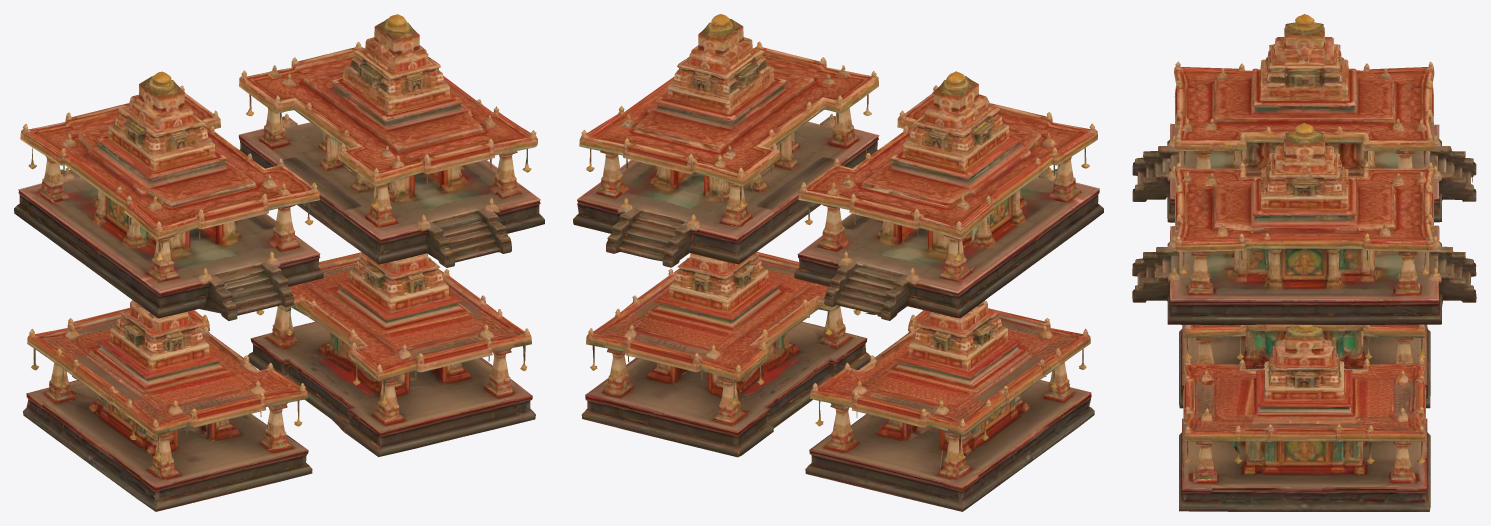
Rendered from temple.glb.
3 renders of one model, left to right at view 1: azimuth 30°, elevation 25°; view 2: azimuth 150°, elevation 25°; view 3: azimuth 270°, elevation 25°, orthographic. The views are drawn at different scales.
Parts seen in each view (by area): view 1: Mesh_0; view 2: Mesh_0; view 3: Mesh_0.
Part boxes in pixels (bbox=[...]): Mesh_0: bbox=[14, 14, 544, 511]; Mesh_0: bbox=[573, 14, 1103, 511]; Mesh_0: bbox=[1132, 14, 1476, 511].
Bounding box in the file's own units: 1.9 × 1.76 × 1.54.
Materials: 1 (1 with a texture image).
